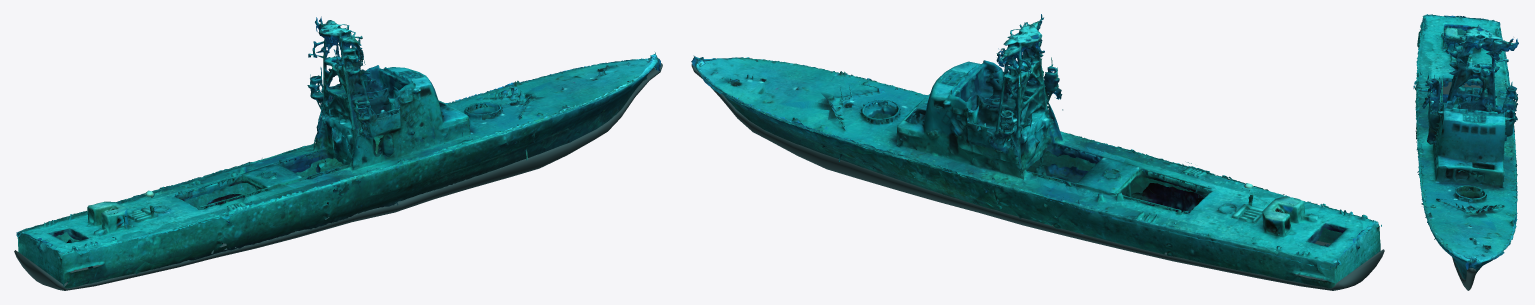
Rendered from dive.glb.
The picture shows the model from 3 angles, left to right: view 1: azimuth 30°, elevation 25°; view 2: azimuth 150°, elevation 25°; view 3: azimuth 270°, elevation 25°; orthographic projection. The views are drawn at different scales.
Visible parts, largest first — view 1: satil dive; view 2: satil dive; view 3: satil dive.
Part boxes in pixels (<box>): satil dive: <box>14,16,662,290</box>; satil dive: <box>691,14,1384,290</box>; satil dive: <box>1413,14,1518,290</box>.
Size of the model in its own units: 44.6 by 12.68 by 7.44.
2 materials, 1 textured.
